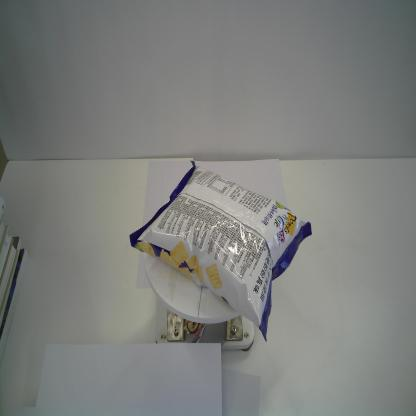Puffed Food: (128, 160, 313, 343)
